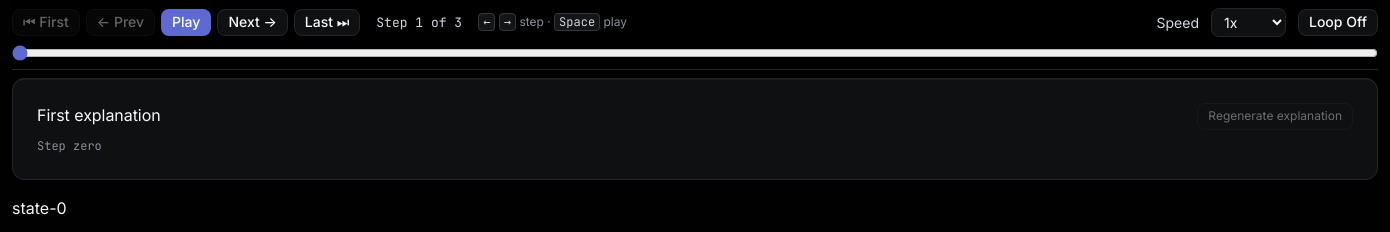
Test case: StepPlayer › restarts from the first step when Play is pressed on the last step
Click the button "Last ⏭": point(327, 22) x1=294 y1=9 x2=360 y2=36
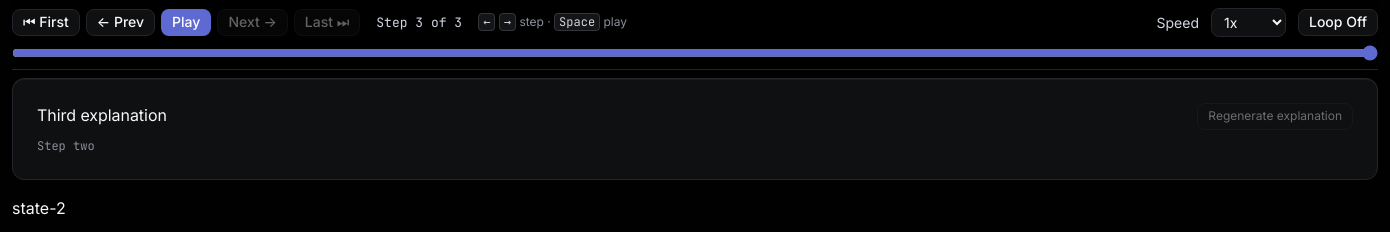
Expected: the text "Step 3 of 3" is shown, x1=376 y1=13 x2=462 y2=32
Click the button "Play": point(186, 22) x1=161 y1=9 x2=211 y2=36
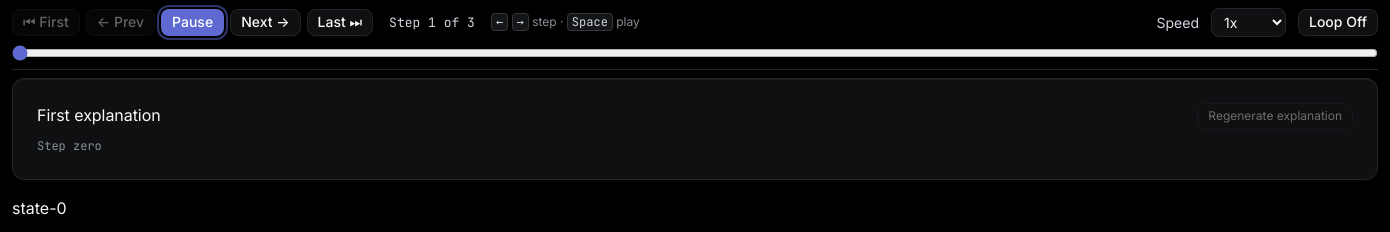
Expected: the text "Step 1 of 3" is shown, x1=389 y1=13 x2=475 y2=32
